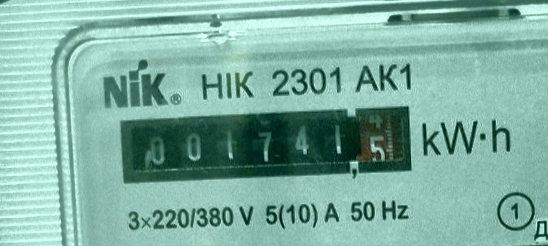0: (181, 130, 201, 164), (145, 134, 165, 167)
1: (217, 127, 235, 163), (327, 122, 343, 158)
4: (289, 122, 310, 158), (365, 112, 381, 131)
5: (364, 132, 384, 164)
7: (253, 128, 271, 164)
screen: (111, 100, 417, 190)
